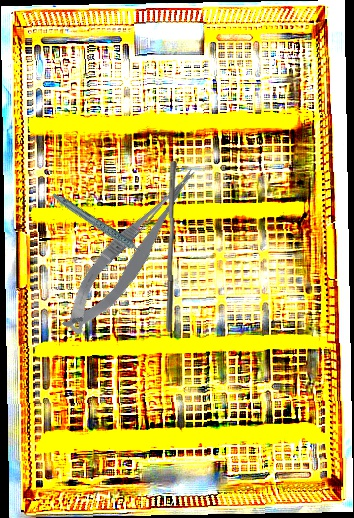Handpiece: (51, 176, 149, 279)
Micro Scissor: (46, 161, 219, 342)
Pusher: (163, 159, 180, 334)
